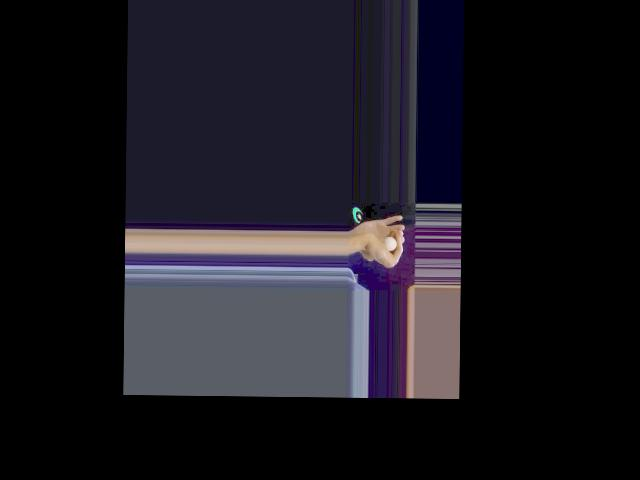egg: (385, 236, 396, 251)
